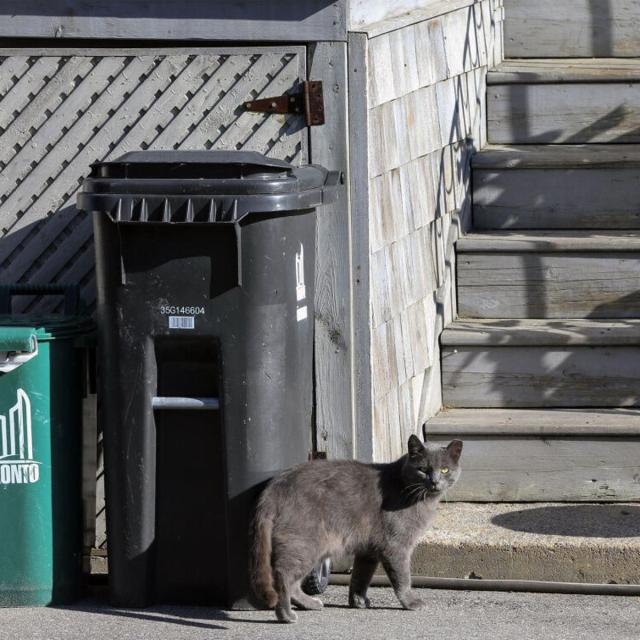cat: (251, 435, 462, 622)
